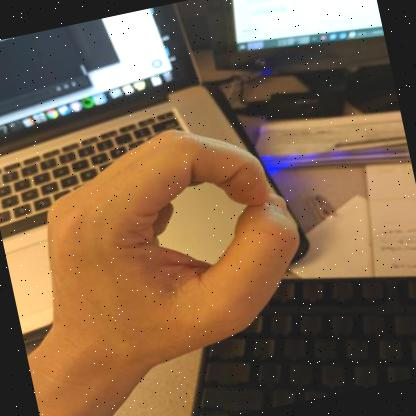O: (47, 129, 299, 386)
